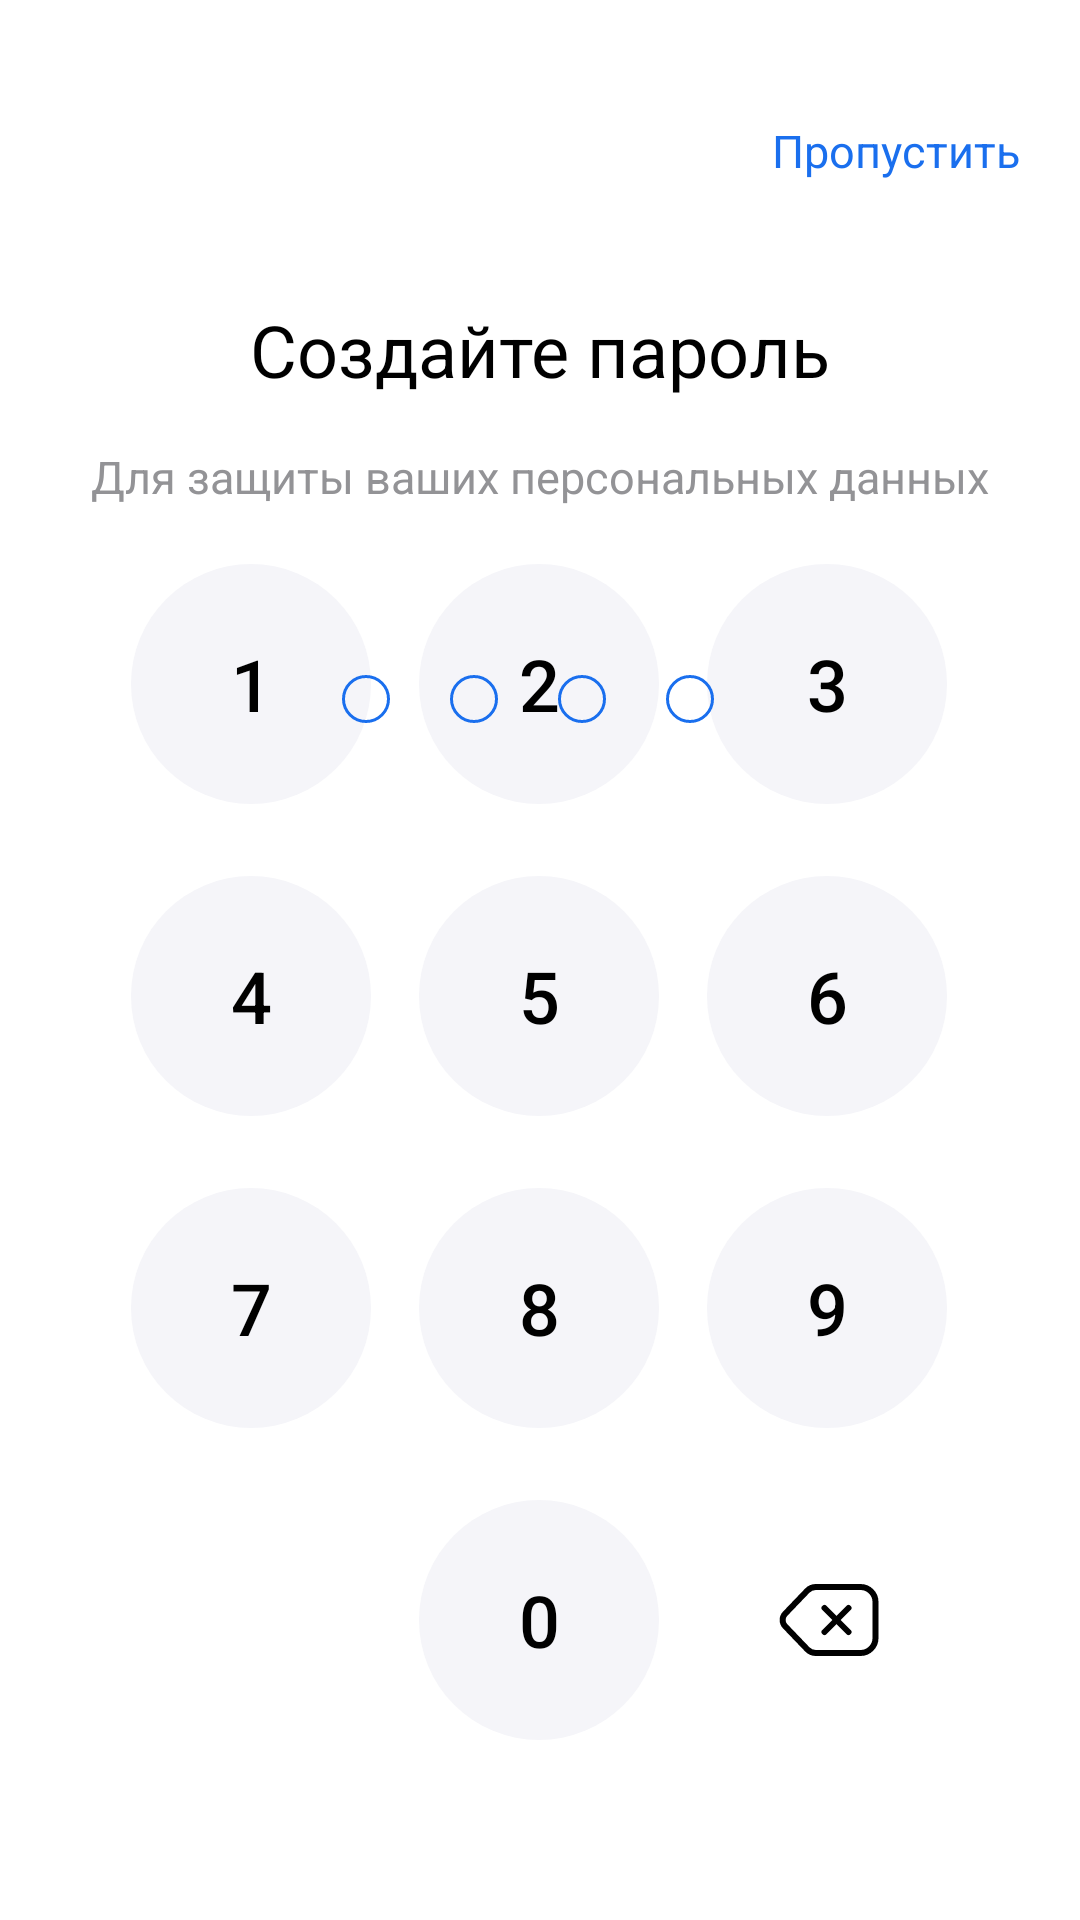

Named icons in this screenshot (1080 x 1920) and their centers, (x,y):
del: (829,1620)
